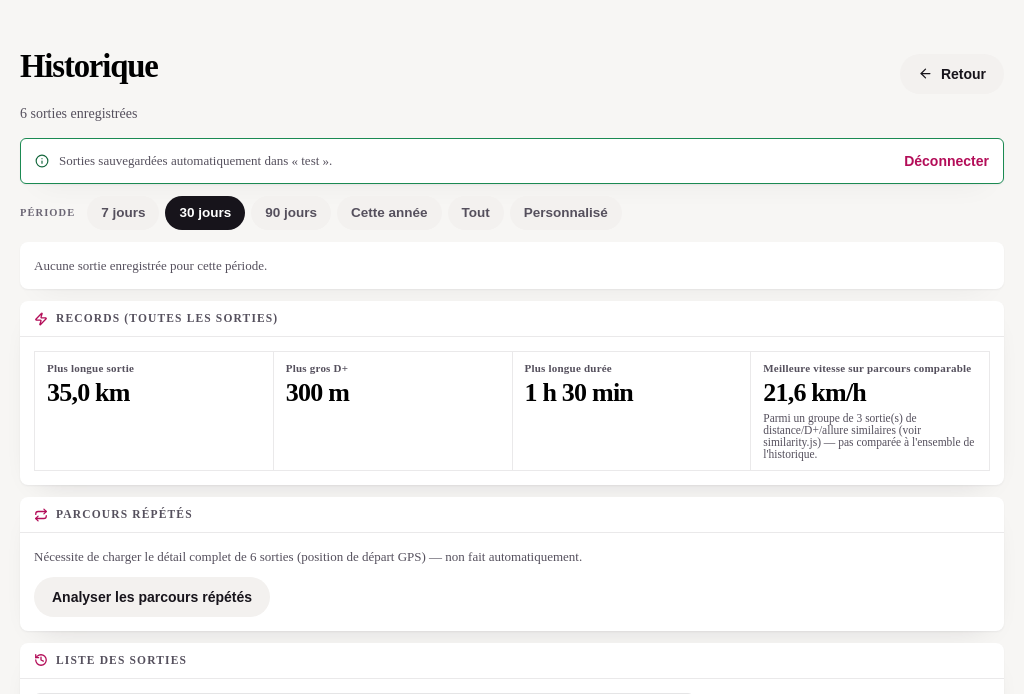
HistoryDashboard — tendances › affiche une tendance à la hausse pour une distance croissante sur 5+ sorties
Click the button "Tout".
click(476, 213)  # box [448,196,504,230]
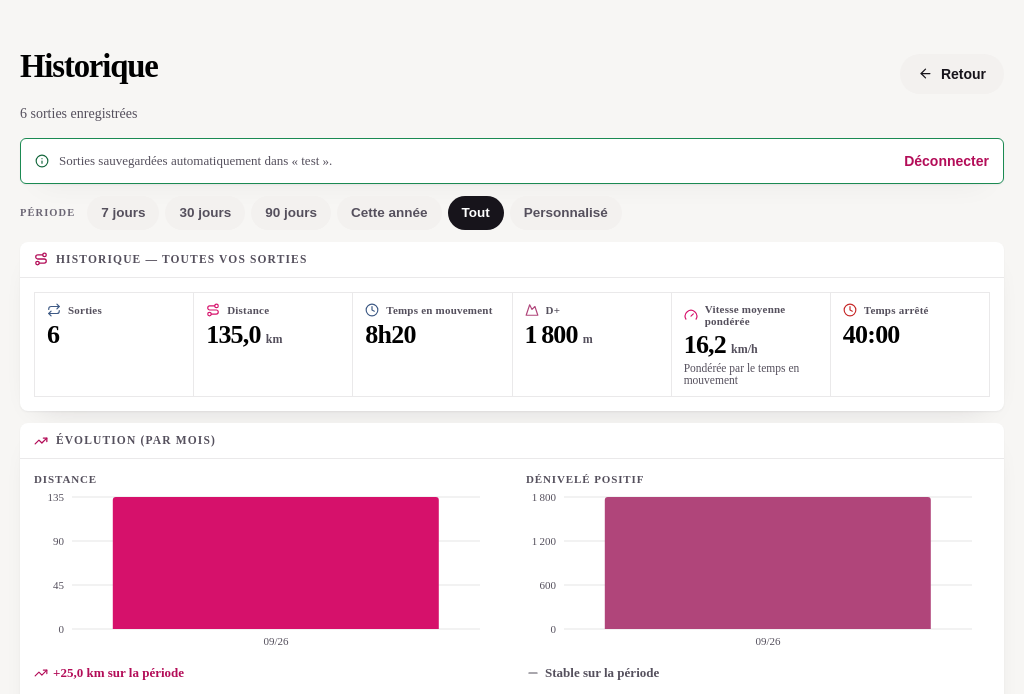
Result: the text "+25,0 km sur la période" is shown at [34,665,184,681]
